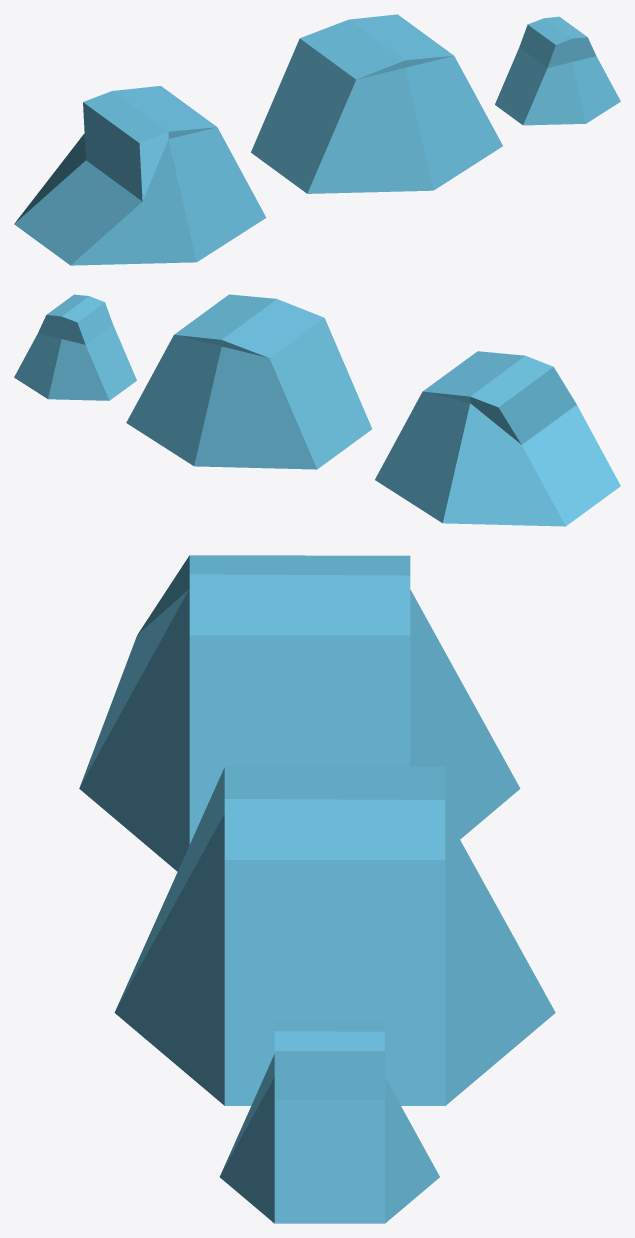
File: iceblocks (2).fbx
3 renders of one model, top to bottom at view 1: azimuth 30°, elevation 25°; view 2: azimuth 150°, elevation 25°; view 3: azimuth 270°, elevation 25°, orthographic. The views are drawn at different scales.
Visible parts, largest first — view 1: IceCube1, IceCube2, IceCubeSmall; view 2: IceCube1, IceCube2, IceCubeSmall; view 3: IceCube1, IceCube2, IceCubeSmall.
Part boxes in pixels (box(x1,y1,x2,y2)): IceCube1: box(251, 14, 502, 193); IceCube2: box(14, 86, 266, 265); IceCubeSmall: box(495, 16, 620, 125); IceCube1: box(126, 294, 371, 469); IceCube2: box(375, 351, 620, 526); IceCubeSmall: box(14, 294, 136, 400); IceCube1: box(114, 766, 555, 1105); IceCube2: box(79, 555, 520, 871); IceCubeSmall: box(219, 1020, 439, 1223).
Size of the model in its own units: 584 by 112 by 216.
